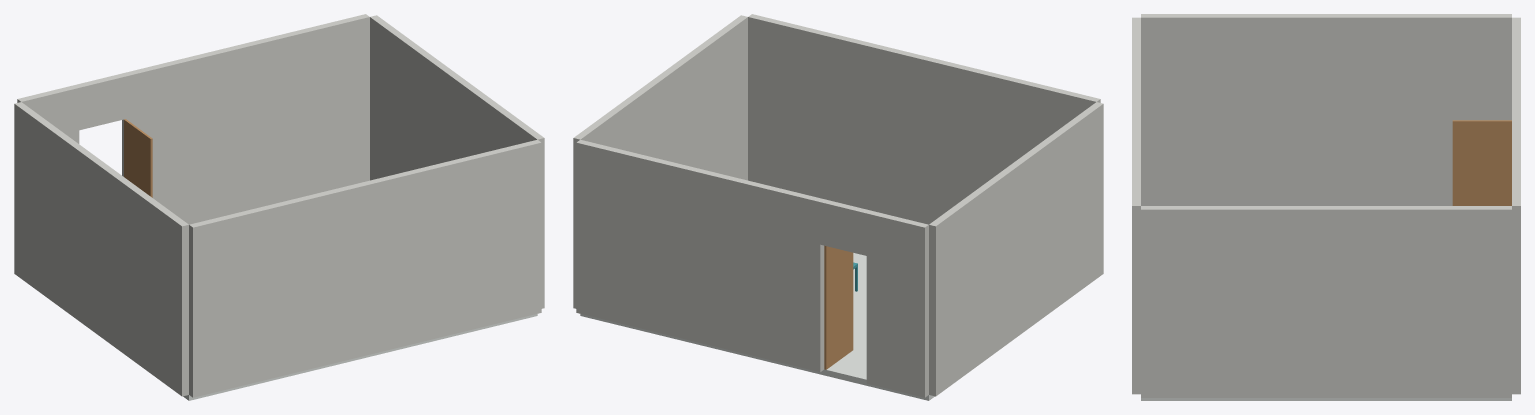
3 views of the same model, side by side, from view 1: azimuth 30°, elevation 25°; view 2: azimuth 150°, elevation 25°; view 3: azimuth 270°, elevation 25° (orthographic). The views are drawn at different scales.
Visible parts, largest first — view 1: room:north:full, room:south:high, room:west:full, room:east:full, room:south:lintel, room:south:low, door:leaf, room:floor; view 2: room:north:full, room:south:high, room:west:full, room:east:full, room:south:low, door:leaf, room:floor, room:south:lintel; view 3: room:east:full, room:west:full, door:leaf, room:north:full, room:south:high, room:floor.
Boxes of the visible parts, x1,y1,x2,y2 form: room:north:full: (189,139,541,397); room:south:high: (122,14,369,224); room:west:full: (14,102,188,396); room:east:full: (370,15,544,308); room:south:lintel: (76,73,125,130); room:south:low: (17,85,79,143); door:leaf: (124,119,152,197); room:floor: (183,314,537,400); room:north:full: (748,14,1100,224); room:south:high: (576,139,824,372); room:west:full: (929,102,1103,396); room:east:full: (573,15,747,308); room:south:low: (866,210,928,397); door:leaf: (824,245,853,369); room:floor: (580,253,934,400); room:south:lintel: (820,199,870,255); room:east:full: (1141,206,1511,397); room:west:full: (1141,14,1511,205); door:leaf: (1452,120,1511,205); room:north:full: (1132,17,1140,394); room:south:high: (1512,74,1520,394); room:floor: (1141,398,1511,400).
Bounding box in the file's own units: 6.24 × 2.9 × 5.24.
